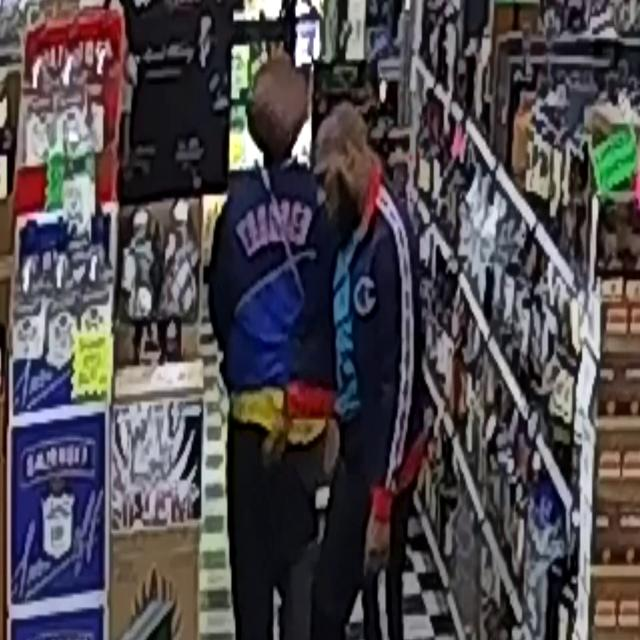normal: (188, 62, 382, 640), (296, 58, 418, 640)
